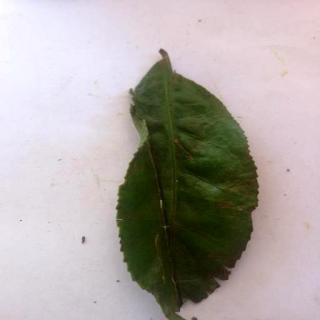Brown Blight: (119, 49, 261, 320)
